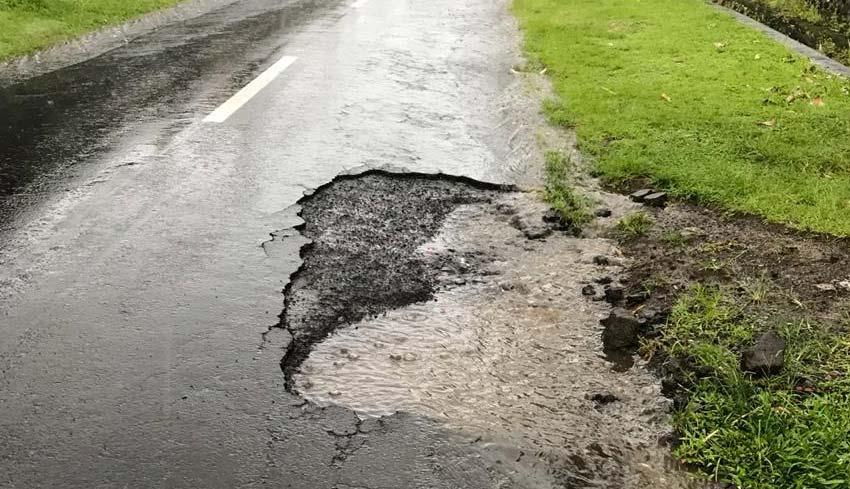Pothole: (256, 142, 724, 487)
